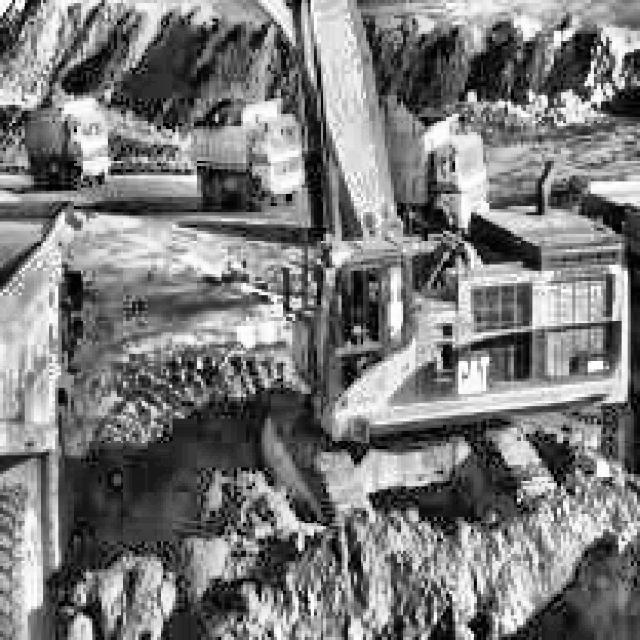dump_truck: (376, 95, 486, 218), (186, 97, 303, 211), (18, 97, 111, 186)
excavator: (0, 0, 627, 612)
